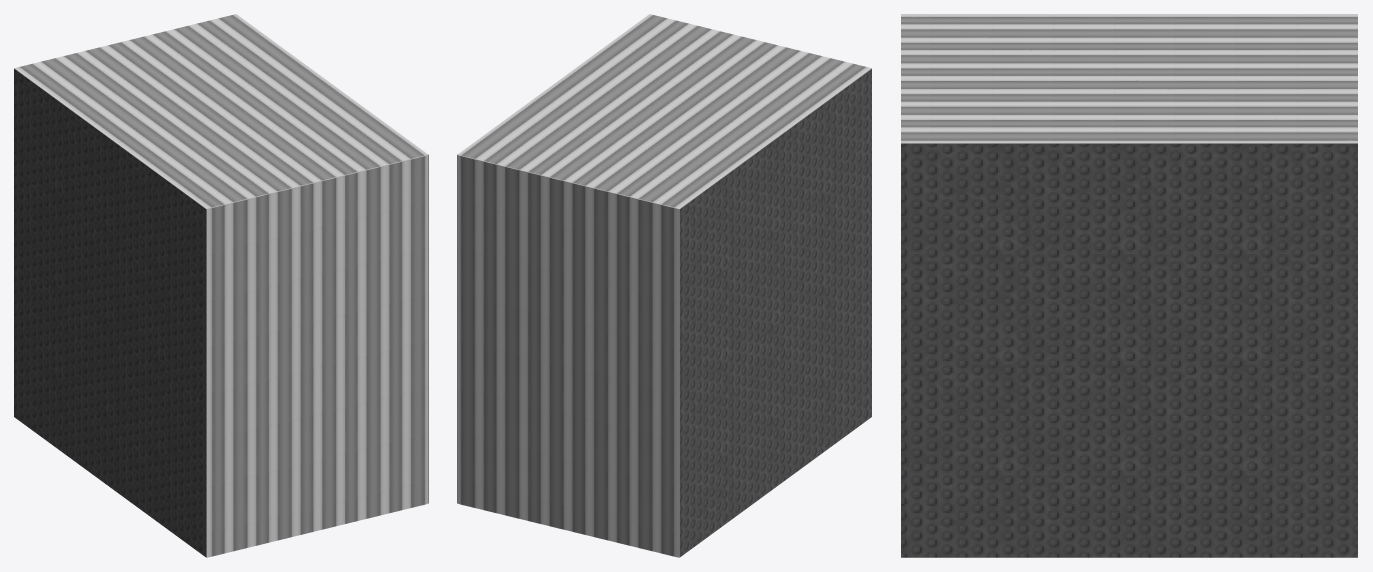
Rendered from extractor.obj.
3 views of the same model, side by side, from view 1: azimuth 30°, elevation 25°; view 2: azimuth 150°, elevation 25°; view 3: azimuth 270°, elevation 25° (orthographic). The views are drawn at different scales.
Parts seen in each view (by area): view 1: Extractor2, Extractor7, Extractor5, Extractor1; view 2: Extractor3, Extractor7, Extractor5, Extractor1; view 3: Extractor6, Extractor5, Extractor1.
Boxes of the visible parts, x1=… form: Extractor2: x1=207, y1=155, x2=428, y2=557; Extractor7: x1=14, y1=69, x2=206, y2=557; Extractor5: x1=15, y1=14, x2=427, y2=208; Extractor1: x1=14, y1=68, x2=428, y2=557; Extractor3: x1=457, y1=155, x2=678, y2=557; Extractor7: x1=679, y1=69, x2=871, y2=557; Extractor5: x1=458, y1=14, x2=870, y2=208; Extractor1: x1=457, y1=68, x2=871, y2=557; Extractor6: x1=901, y1=143, x2=1357, y2=557; Extractor5: x1=901, y1=14, x2=1357, y2=142; Extractor1: x1=901, y1=142, x2=1357, y2=143.
Size of the model in its own units: 10.04 by 15.04 by 15.04.
